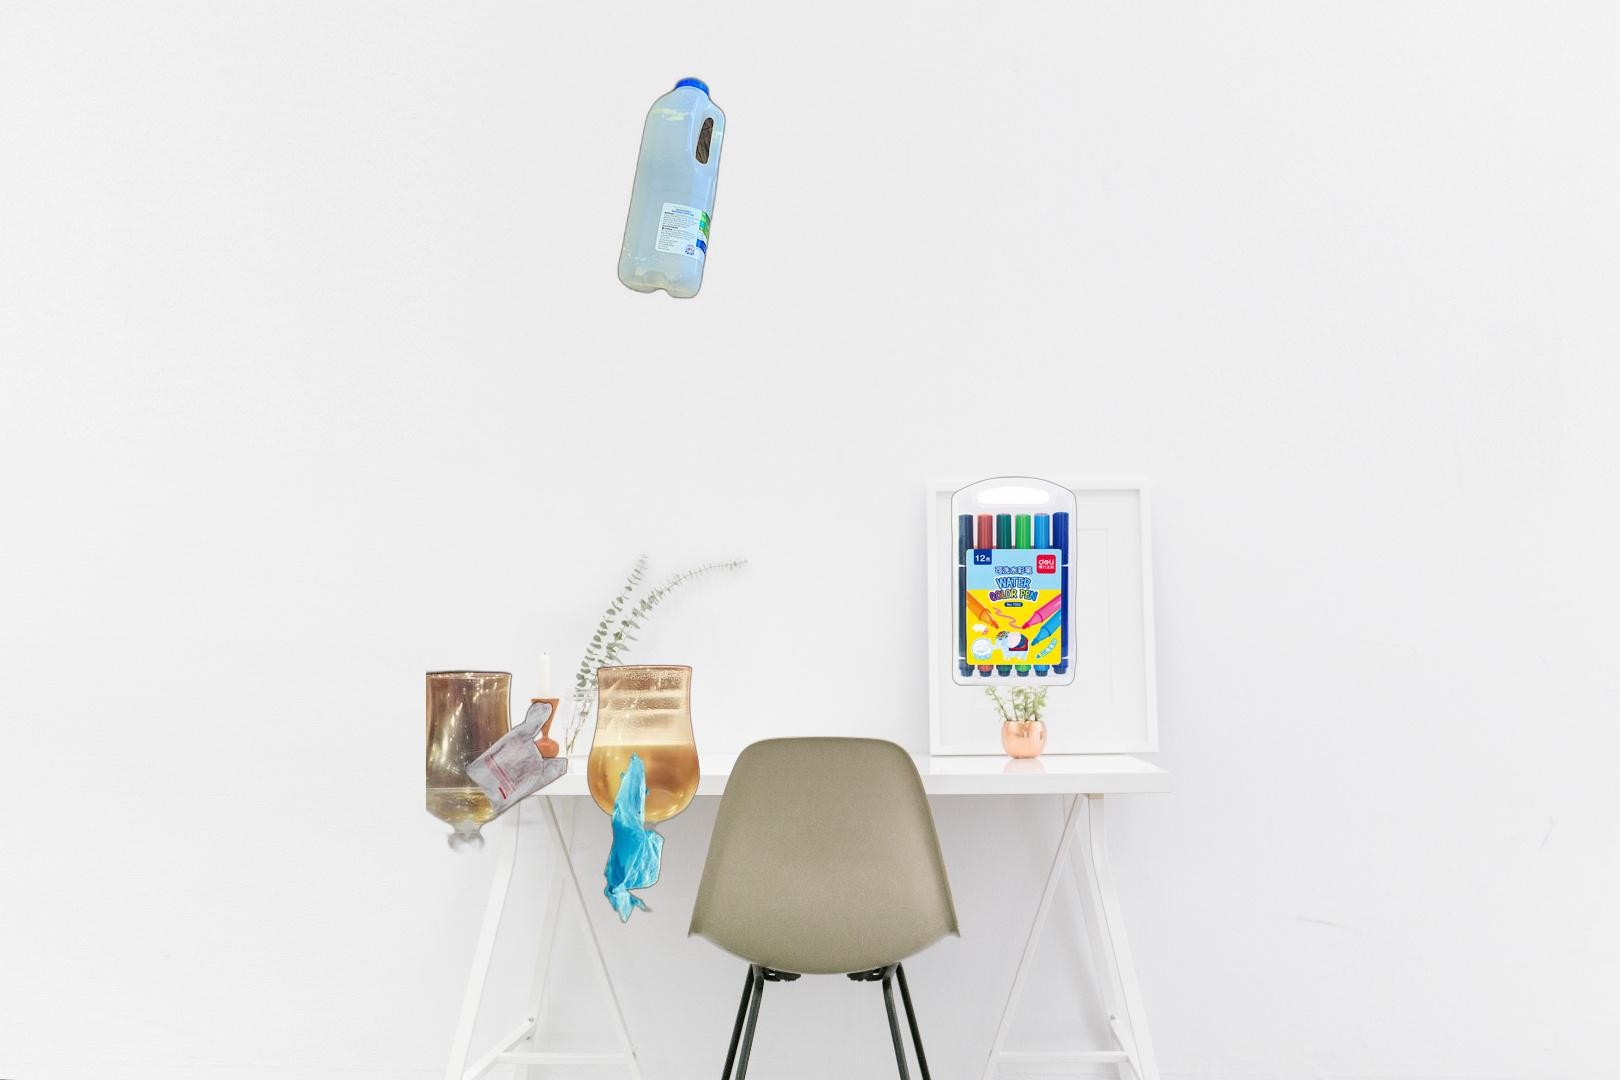penholder: (949, 476, 1080, 686)
plastic-bag: (425, 663, 703, 926)
plastic-bottles: (614, 71, 730, 304)
